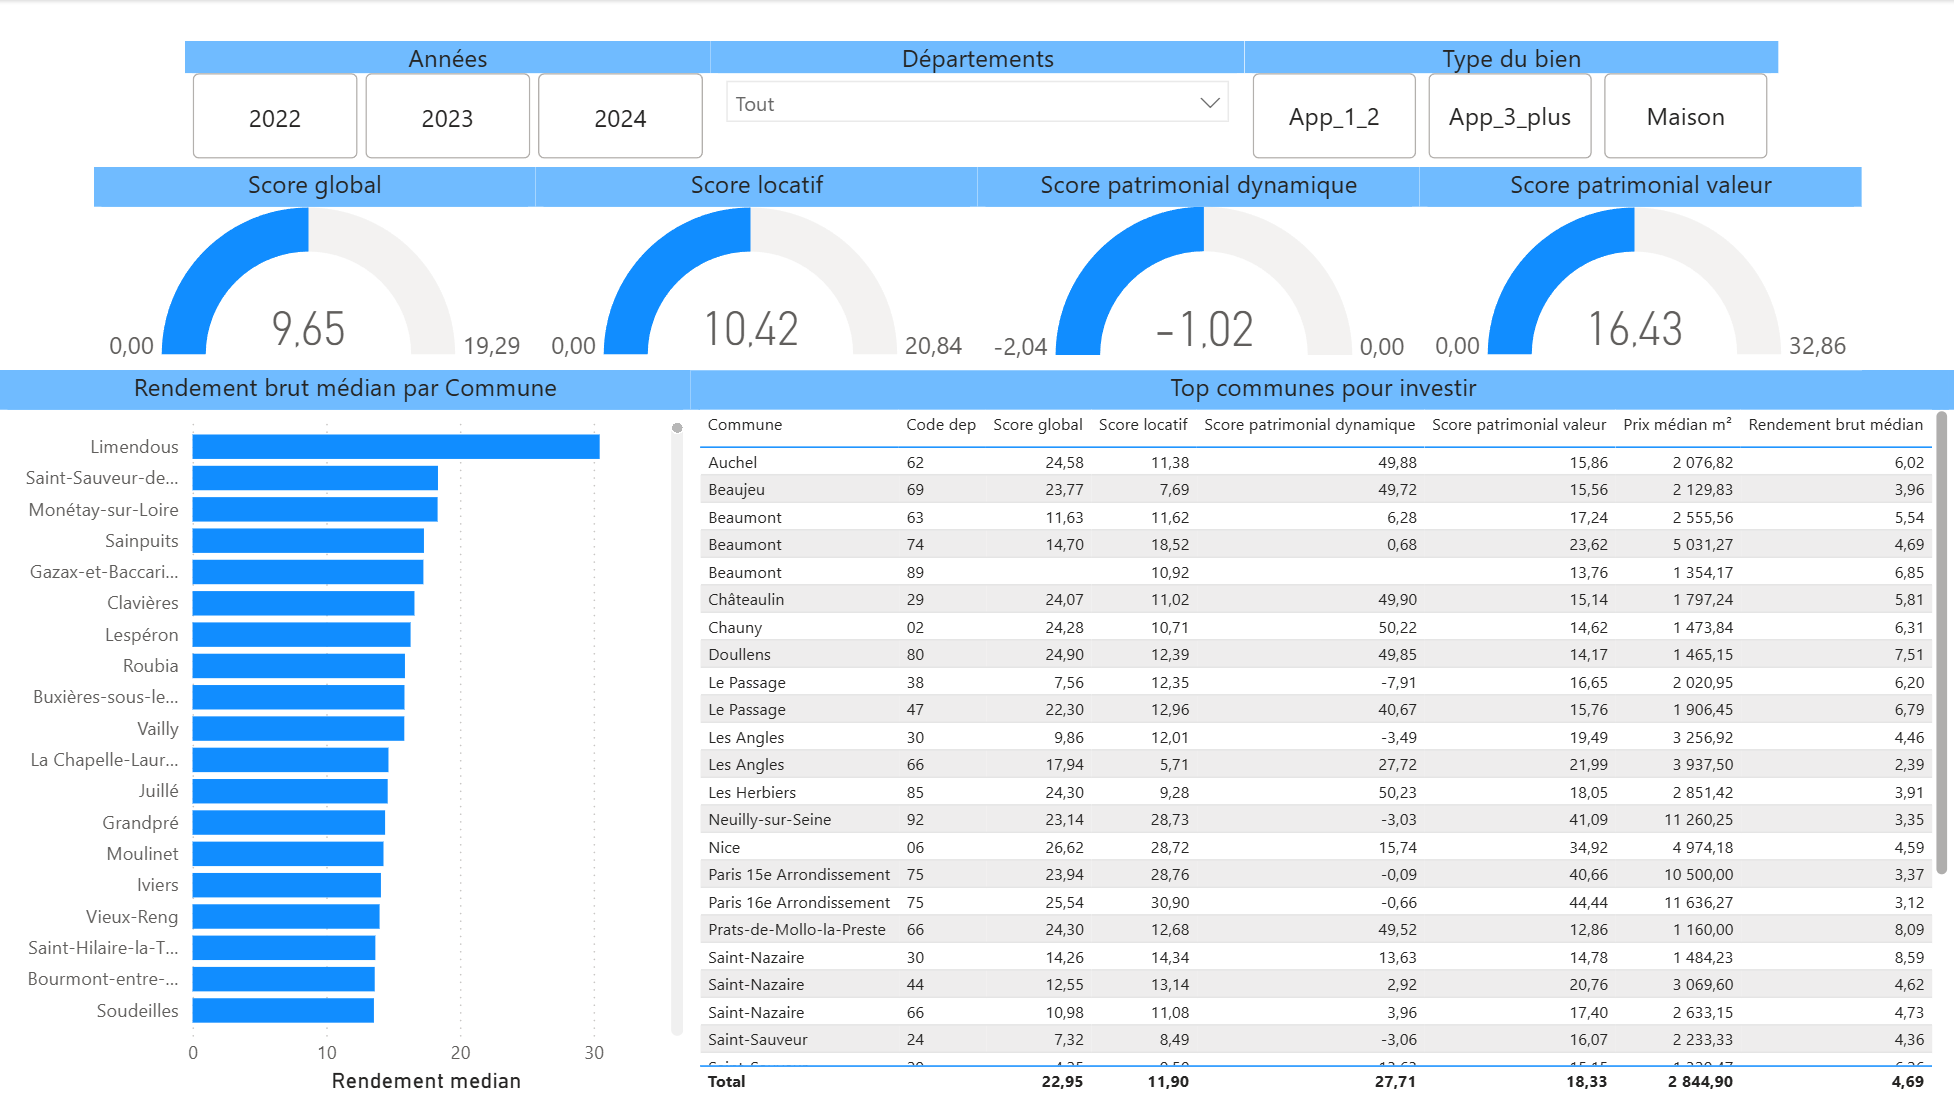

What the dashboard file says about the page in this screenshot:
{"tool":"powerbi","page":{"name":"03-Analyse des opportunités","canvas":[1280,720],"ordinal":2},"visuals":[{"type":"tableEx","title":"Top communes pour investir","fields":{"Values":["dim_commune.Commune","dashboard_immo_france_FR.departement","Median(dashboard_immo_france_FR.score_global)","Median(dashboard_immo_france_FR.score_locatif)","Median(dashboard_immo_france_FR.score_patrimonial_dyn)","Median(dashboard_immo_france_FR.score_patrimonial_val)","Median(dashboard_immo_france_FR.prix_m2_median)","Median(dashboard_immo_france_FR.rendement_brut_pct)"]},"box":[452.2,242.1,827.8,477.7],"z":0},{"type":"advancedSlicerVisual","title":"Type du bien ","fields":{"Values":["dashboard_immo_france_FR.segment_bien"]},"box":[814.7,26.8,349.4,82.5],"z":1000},{"type":"slicer","title":"Départements","fields":{"Values":["dashboard_immo_france_FR.departement"]},"box":[465.3,26.8,349.4,82.5],"z":2000},{"type":"gauge","title":"Score global","fields":{"Y":["Median(dashboard_immo_france_FR.score_global)"]},"box":[61.4,109.2,289.3,133],"z":3000},{"type":"gauge","title":"Score locatif","fields":{"Y":["Median(dashboard_immo_france_FR.score_locatif)"]},"box":[350.7,109.2,289.3,133],"z":4000},{"type":"gauge","title":"Score patrimonial dynamique","fields":{"Y":["Median(dashboard_immo_france_FR.score_patrimonial_dyn)"]},"box":[640,109.2,289.3,133],"z":5000},{"type":"gauge","title":"Score patrimonial valeur","fields":{"Y":["Median(dashboard_immo_france_FR.score_patrimonial_val)"]},"box":[929.3,109.2,289.3,133],"z":6000},{"type":"clusteredBarChart","title":"Rendement brut médian par Commune","fields":{"Category":["dim_commune.Commune"],"Y":["dashboard_immo_france_FR.Rendement median"]},"box":[0,242.1,452.2,477.7],"z":7000},{"type":"advancedSlicerVisual","title":"Années","fields":{"Values":["dashboard_immo_france_FR.annee"]},"box":[121.1,26.8,344.2,82.5],"z":8000}]}

Visuals, with their boxes in screenshot pixels (x1, y1, x2, y2), scaled from the page's 1280x720 canvas onto the 1954x1100 screenshot:
"Top communes pour investir" tableEx: locate(690, 370, 1953, 1099)
"Type du bien " advancedSlicerVisual: locate(1244, 41, 1777, 167)
"Départements" slicer: locate(710, 41, 1244, 167)
"Score global" gauge: locate(94, 167, 535, 370)
"Score locatif" gauge: locate(535, 167, 977, 370)
"Score patrimonial dynamique" gauge: locate(977, 167, 1419, 370)
"Score patrimonial valeur" gauge: locate(1419, 167, 1860, 370)
"Rendement brut médian par Commune" clusteredBarChart: locate(0, 370, 690, 1099)
"Années" advancedSlicerVisual: locate(185, 41, 710, 167)
